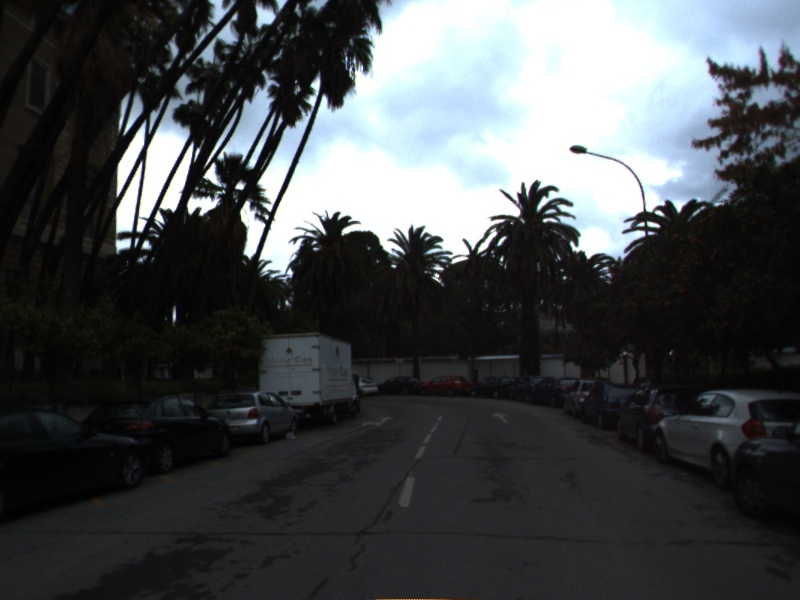STRAIGHT: (490, 410, 512, 425)
STRAIGHT_LEFT: (359, 413, 396, 428)
